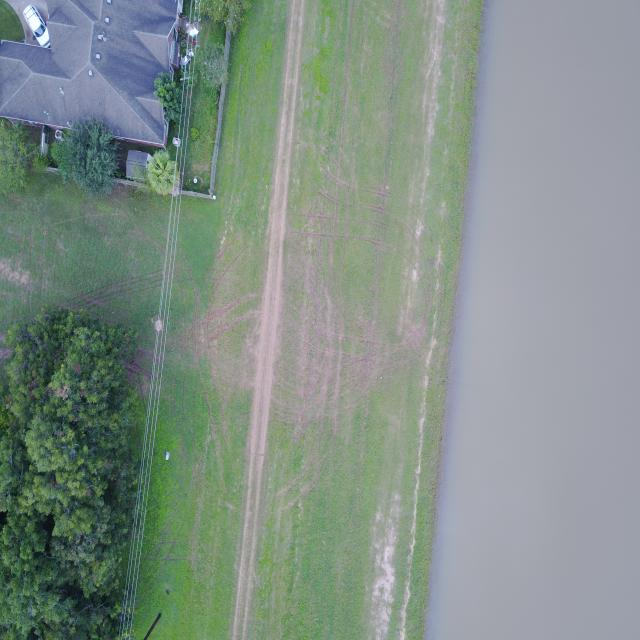fire: (428, 0, 640, 639)
